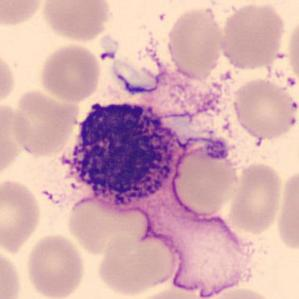Basophil: (54, 93, 186, 221)
Platelets: (98, 51, 116, 62)
RBC: (158, 205, 258, 299), (95, 228, 183, 298), (169, 136, 240, 217), (65, 192, 150, 256), (8, 86, 81, 159), (218, 0, 286, 72), (165, 4, 226, 79), (230, 76, 299, 141), (227, 160, 285, 235), (23, 232, 87, 299), (37, 42, 103, 103), (0, 176, 43, 254), (39, 0, 114, 43), (0, 98, 31, 180), (274, 166, 299, 254), (127, 283, 212, 299), (0, 244, 24, 299), (0, 0, 45, 28), (198, 284, 278, 299), (285, 14, 299, 87), (0, 48, 17, 107)
